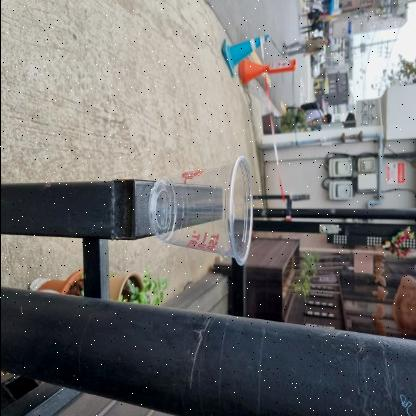Others: (148, 150, 256, 268)
